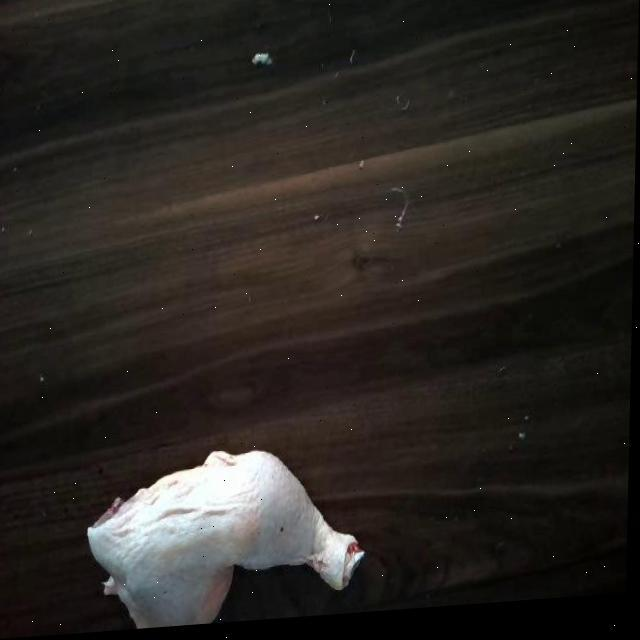quater: (92, 435, 375, 634)
